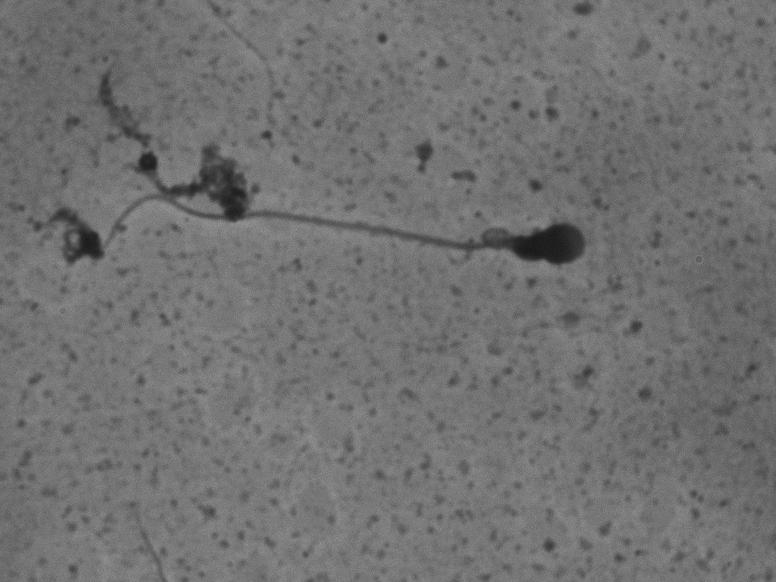Abnormal: (61, 158, 621, 338)
